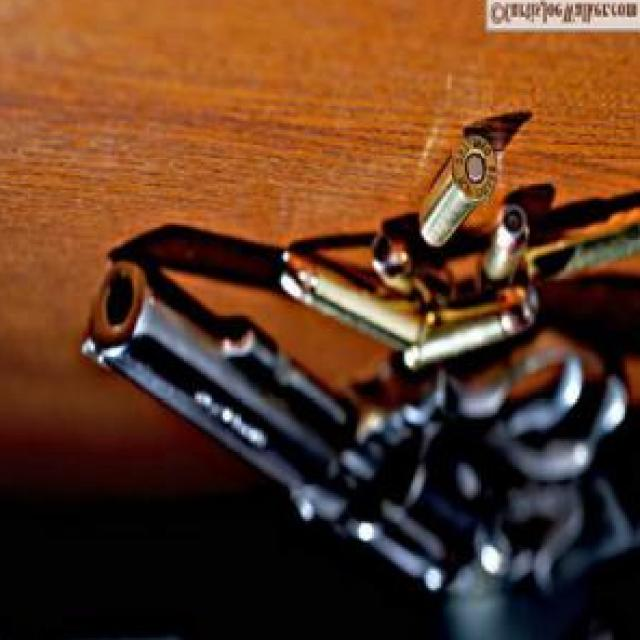pistol: (78, 248, 622, 596)
